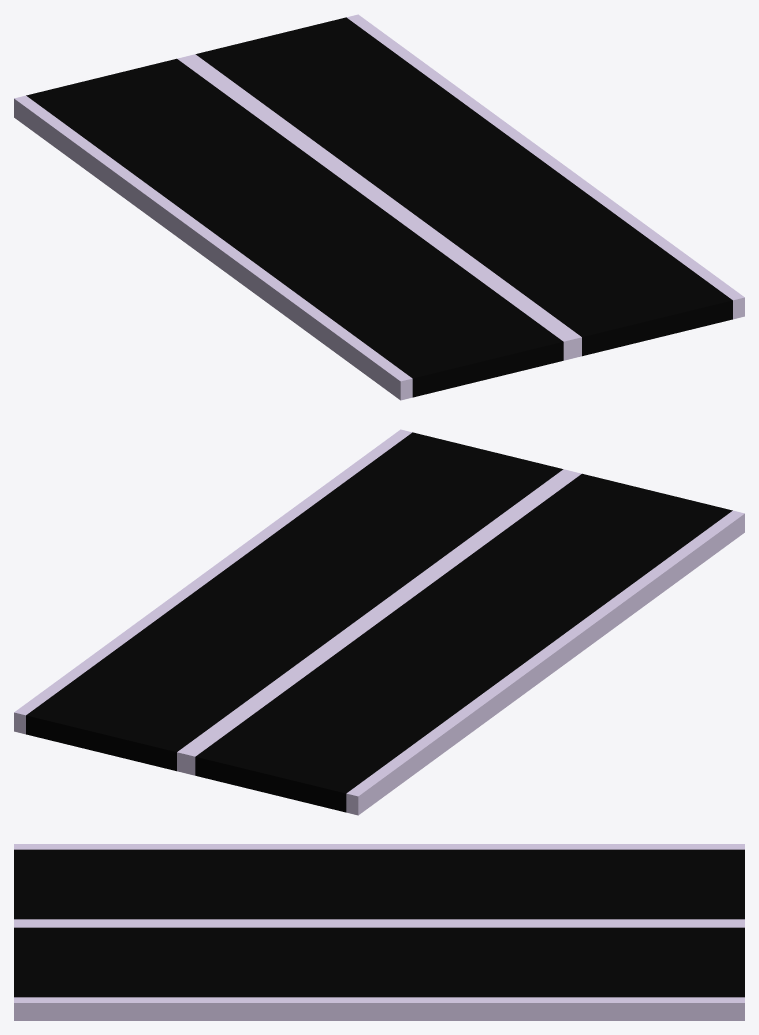
The model's file is Road.fbx.
The picture shows the model from 3 angles, top to bottom: view 1: azimuth 30°, elevation 25°; view 2: azimuth 150°, elevation 25°; view 3: azimuth 270°, elevation 25°; orthographic projection. The views are drawn at different scales.
Parts seen in each view (by area): view 1: Road; view 2: Road; view 3: Road.
Boxes of the visible parts, left/top/right/bottom form: Road: left=14, top=14, right=744, bottom=400; Road: left=14, top=429, right=744, bottom=815; Road: left=14, top=844, right=744, bottom=1020.
Size of the model in its own units: 320 by 16.94 by 623.
